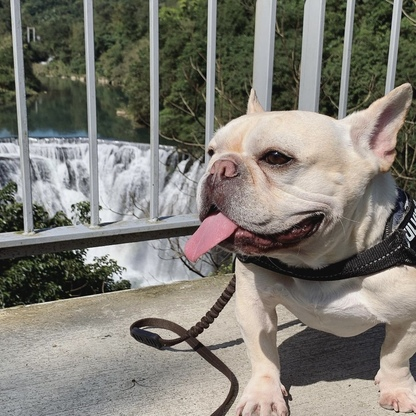bulldog: (180, 81, 416, 414)
